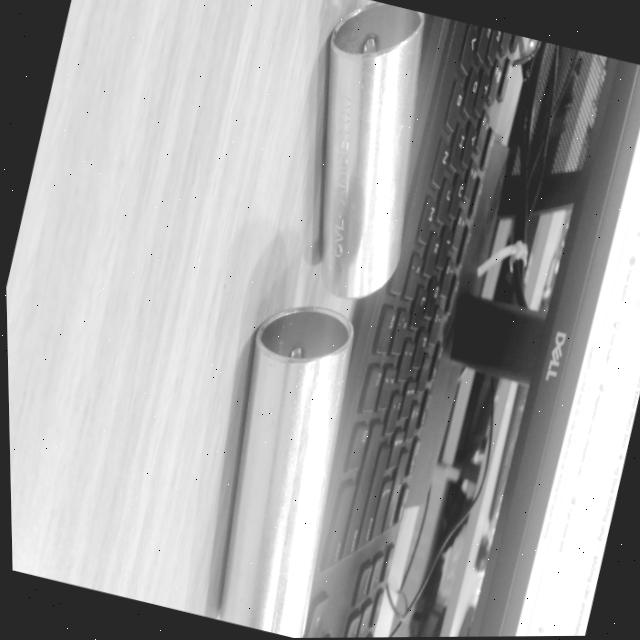Co_Lon: (207, 298, 355, 639)
